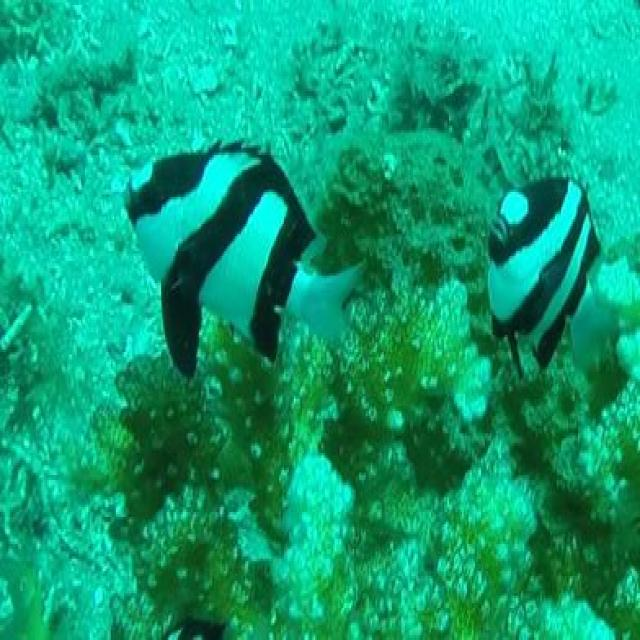ThreeStripedDamselfish: (126, 143, 356, 379), (487, 177, 616, 372)
